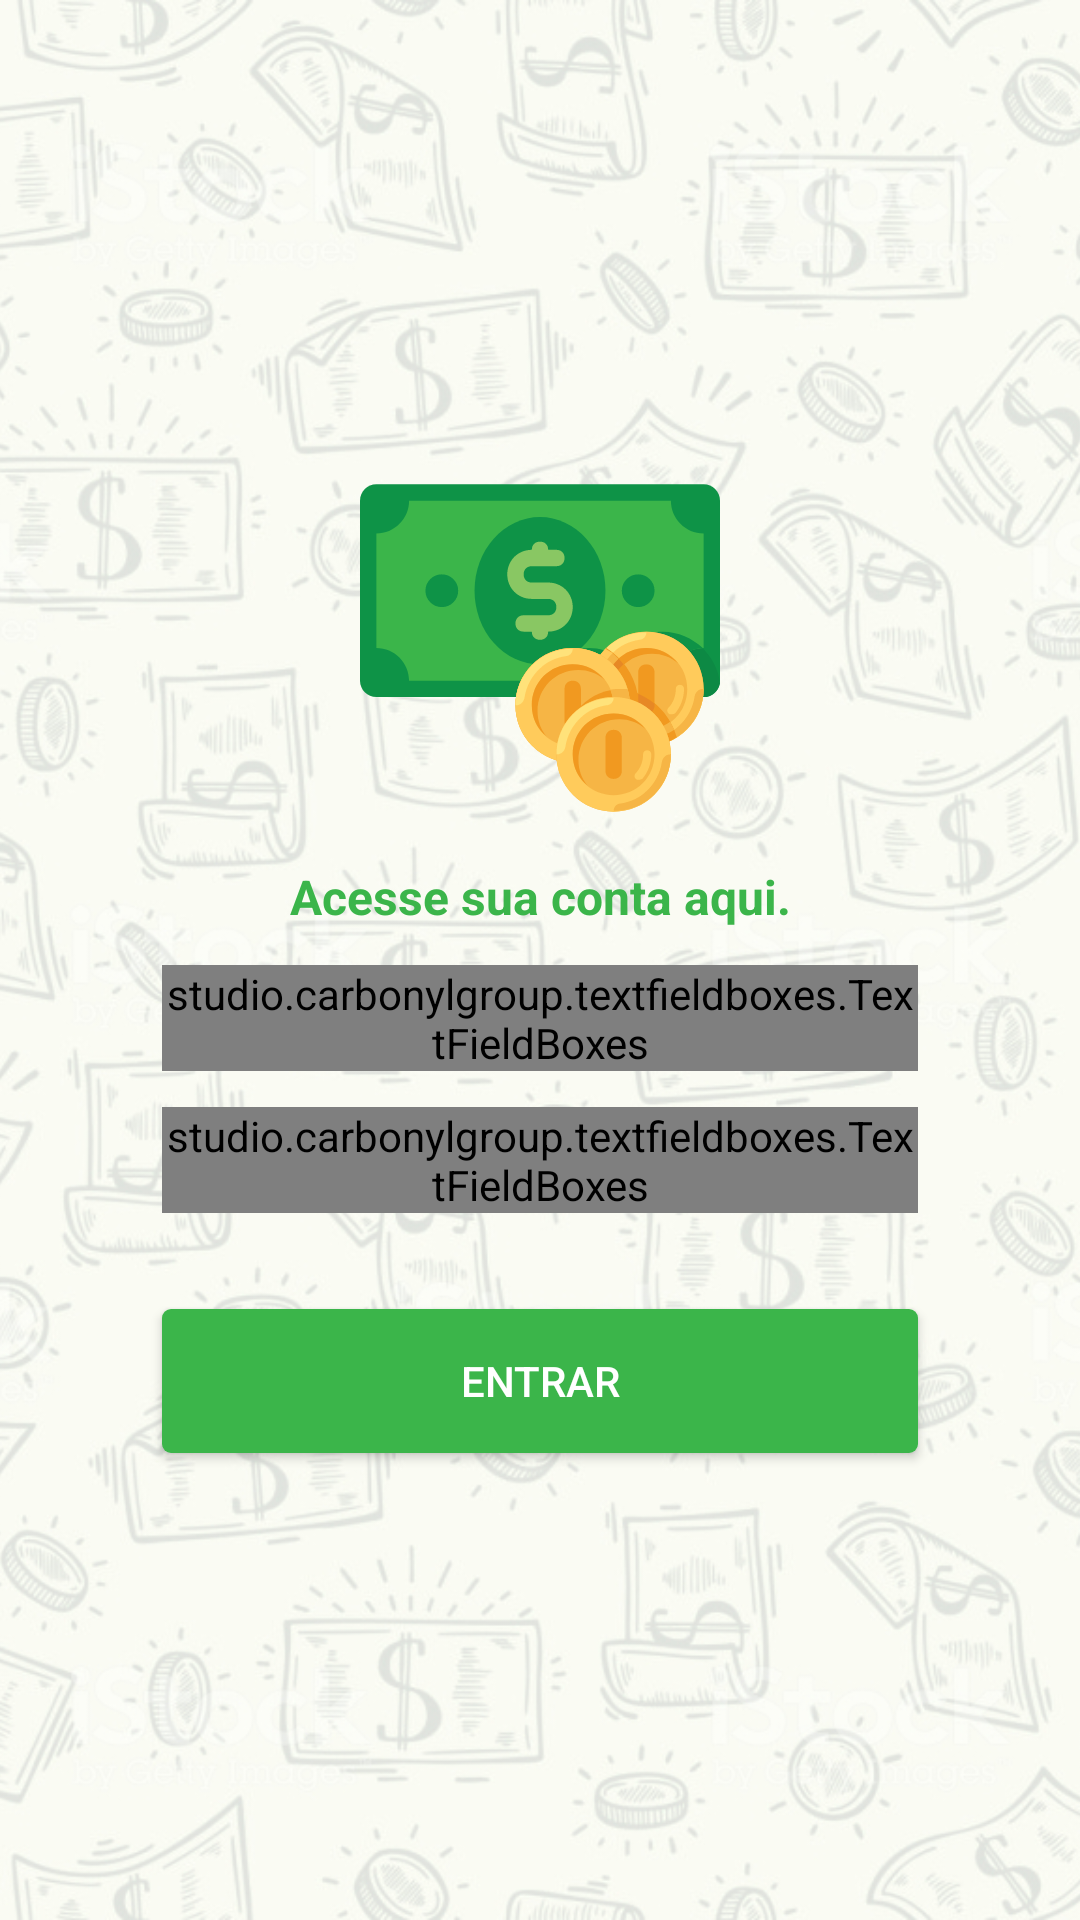

Locate icon controls on the screen. Image size 1080x1920, boxes as (x1, y1, x2, y2).
money: (360, 469, 720, 828)
